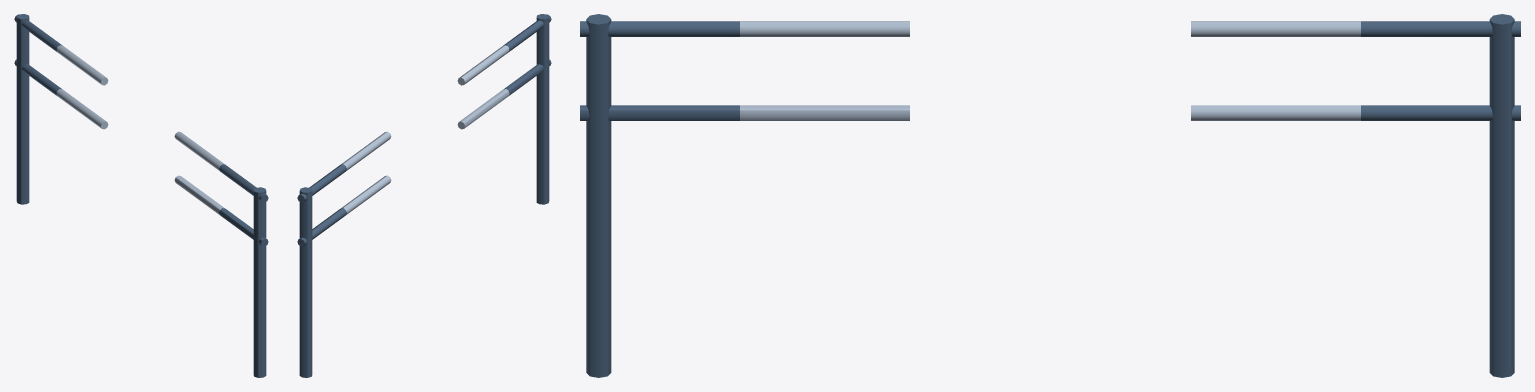
Rendered from Cartel_Principal.fbx.
3 views of the same model, side by side, from view 1: azimuth 30°, elevation 25°; view 2: azimuth 150°, elevation 25°; view 3: azimuth 270°, elevation 25° (orthographic). The views are drawn at different scales.
Visible parts, largest first — view 1: Cartel_Principal; view 2: Cartel_Principal; view 3: Cartel_Principal.
Part boxes in pixels (<box>): Cartel_Principal: <box>14,14,268,377</box>; Cartel_Principal: <box>297,14,551,377</box>; Cartel_Principal: <box>580,14,1520,377</box>.
Bounding box in the file's own units: 200 × 3097 × 7475.
